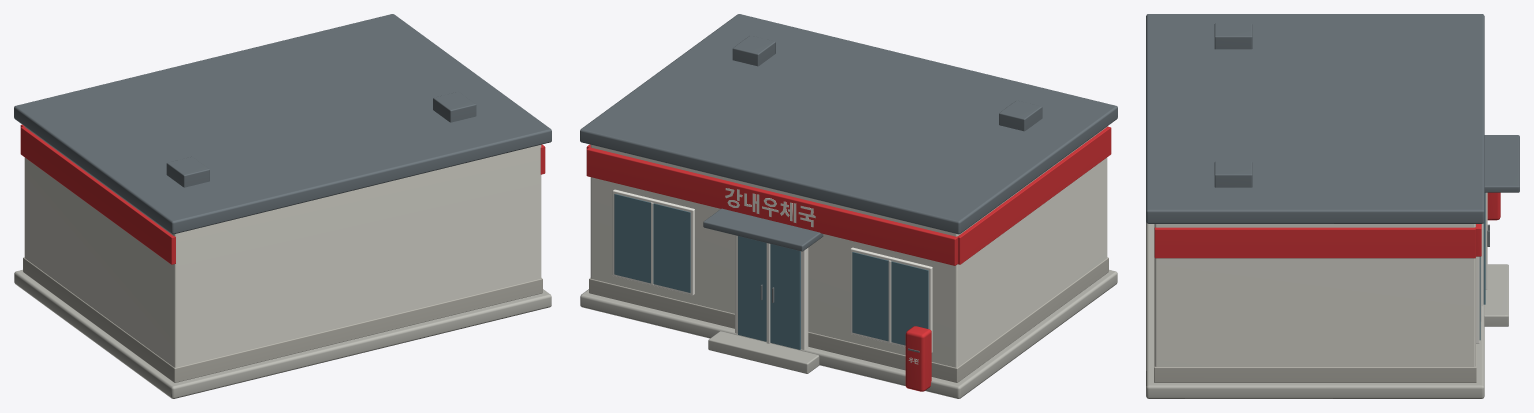
Rendered from service-post-office.glb.
3 views of the same model, side by side, from view 1: azimuth 30°, elevation 25°; view 2: azimuth 150°, elevation 25°; view 3: azimuth 270°, elevation 25° (orthographic). The views are drawn at different scales.
Parts seen in each view (by area): view 1: Main walls, Flat roof coping, Foundation, Masonry base, Side fascia left, Roof vent, Roof vent.001; view 2: Flat roof coping, Main walls, Front fascia, Foundation, Masonry base, Front window glazing.001, Entrance door, Front window glazing, Side fascia left, Entrance canopy, Entry step, Post box (+7 smaller); view 3: Flat roof coping, Main walls, Side fascia right, Foundation, Masonry base, Entrance canopy, Entry step, Roof vent.001, Roof vent, Post box, Front window frame.001.
Boxes of the visible parts, bbox=[...] form: Main walls: bbox=[24, 126, 541, 367]; Flat roof coping: bbox=[14, 14, 551, 234]; Foundation: bbox=[14, 270, 551, 398]; Masonry base: bbox=[23, 257, 542, 382]; Side fascia left: bbox=[20, 126, 175, 264]; Roof vent: bbox=[166, 156, 209, 187]; Roof vent.001: bbox=[433, 91, 476, 122]; Flat roof coping: bbox=[580, 14, 1117, 234]; Main walls: bbox=[590, 126, 1107, 367]; Front fascia: bbox=[586, 147, 957, 265]; Foundation: bbox=[580, 270, 1117, 398]; Masonry base: bbox=[589, 257, 1108, 382]; Front window glazing.001: bbox=[614, 194, 690, 292]; Entrance door: bbox=[738, 236, 800, 349]; Front window glazing: bbox=[852, 252, 928, 345]; Side fascia left: bbox=[957, 126, 1111, 264]; Entrance canopy: bbox=[703, 208, 823, 251]; Entry step: bbox=[708, 331, 819, 373]; Post box: bbox=[905, 326, 931, 391]; Flat roof coping: bbox=[1146, 14, 1484, 223]; Main walls: bbox=[1154, 224, 1475, 366]; Side fascia right: bbox=[1154, 227, 1475, 258]; Foundation: bbox=[1146, 222, 1484, 398]; Masonry base: bbox=[1154, 224, 1476, 382]; Entrance canopy: bbox=[1484, 135, 1519, 192]; Entry step: bbox=[1484, 264, 1508, 326]; Roof vent.001: bbox=[1214, 161, 1252, 187]; Roof vent: bbox=[1214, 23, 1252, 49]; Post box: bbox=[1487, 192, 1500, 220]; Front window frame.001: bbox=[1476, 256, 1479, 343].
Size of the model in its own units: 8 by 3.83 by 6.41.
